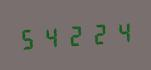five: (18, 24, 40, 52)
four: (41, 22, 63, 50), (110, 17, 132, 45)
two: (64, 20, 86, 49), (87, 19, 109, 47)
